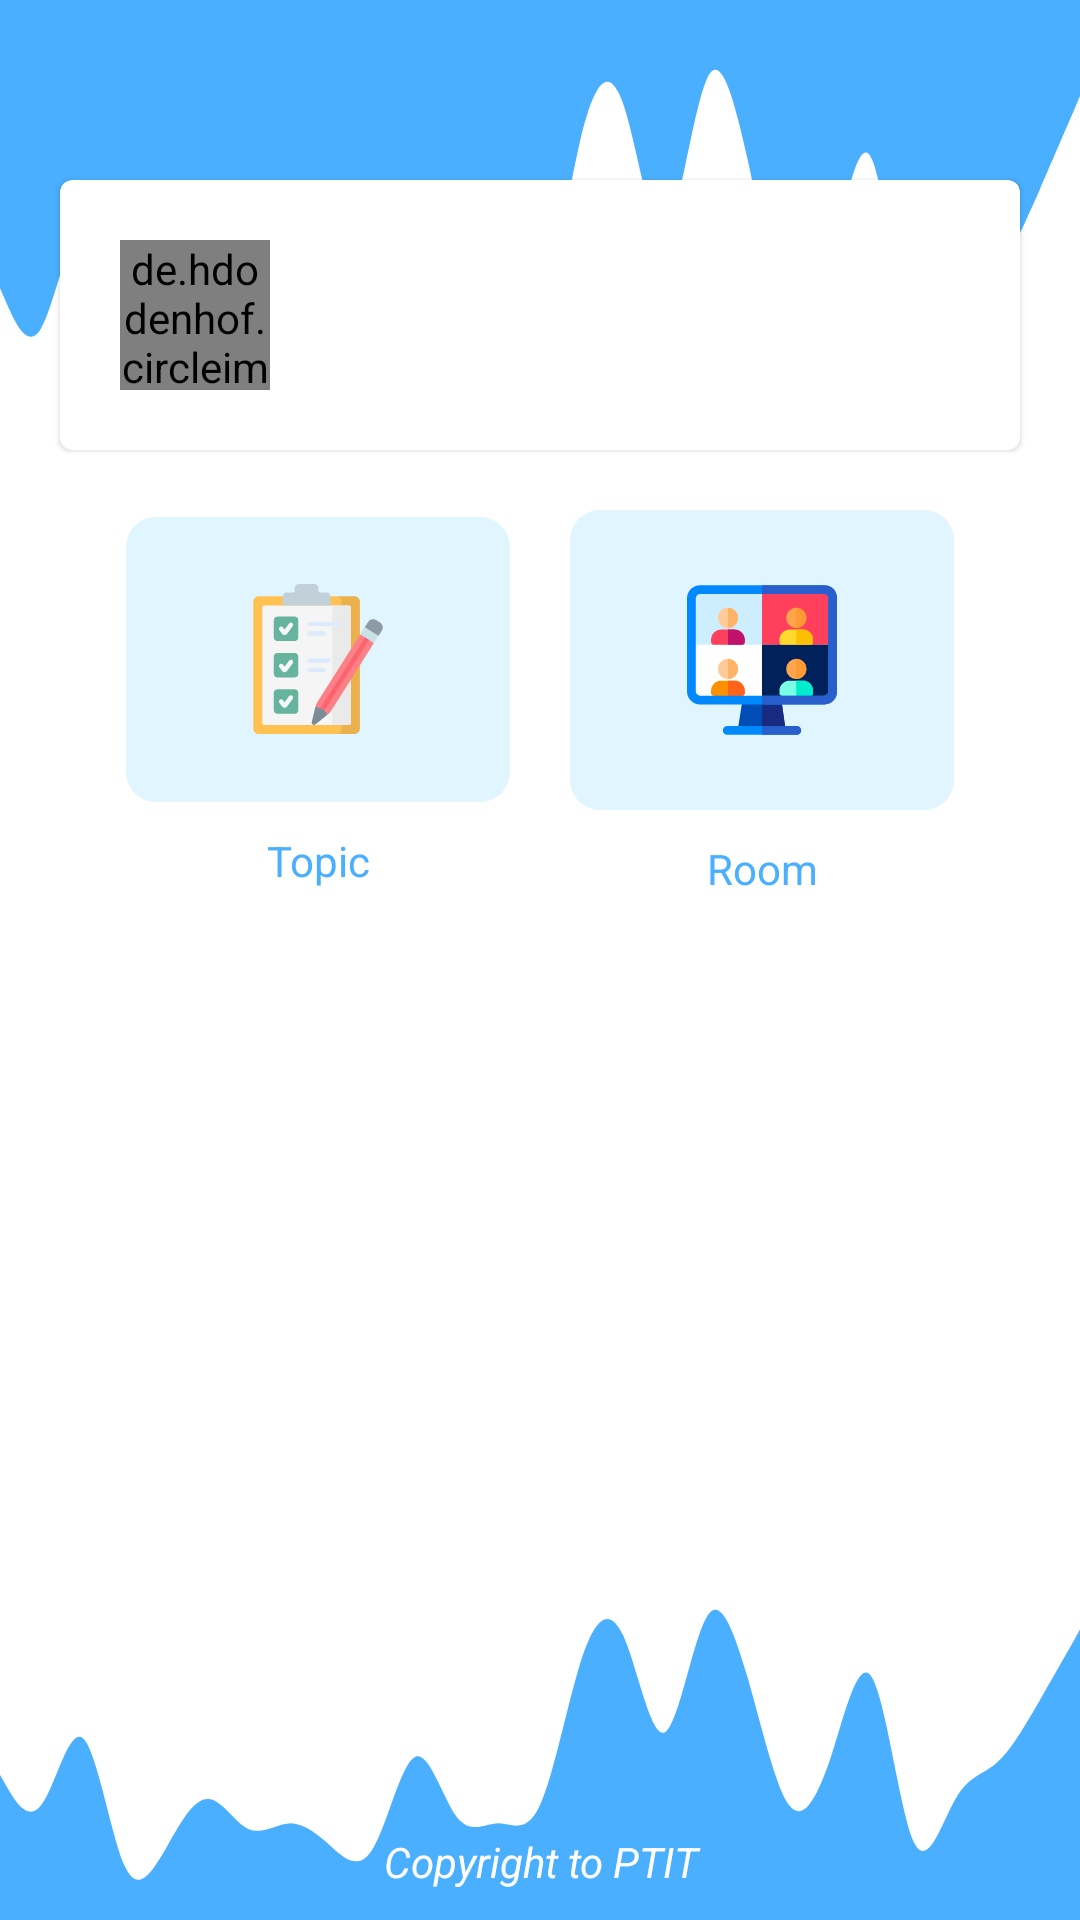

Named icons in this screenshot (1080 × 1920) and their centers, (x=x, y=y):
checklist: (x=318, y=659)
videoconference: (x=762, y=660)
